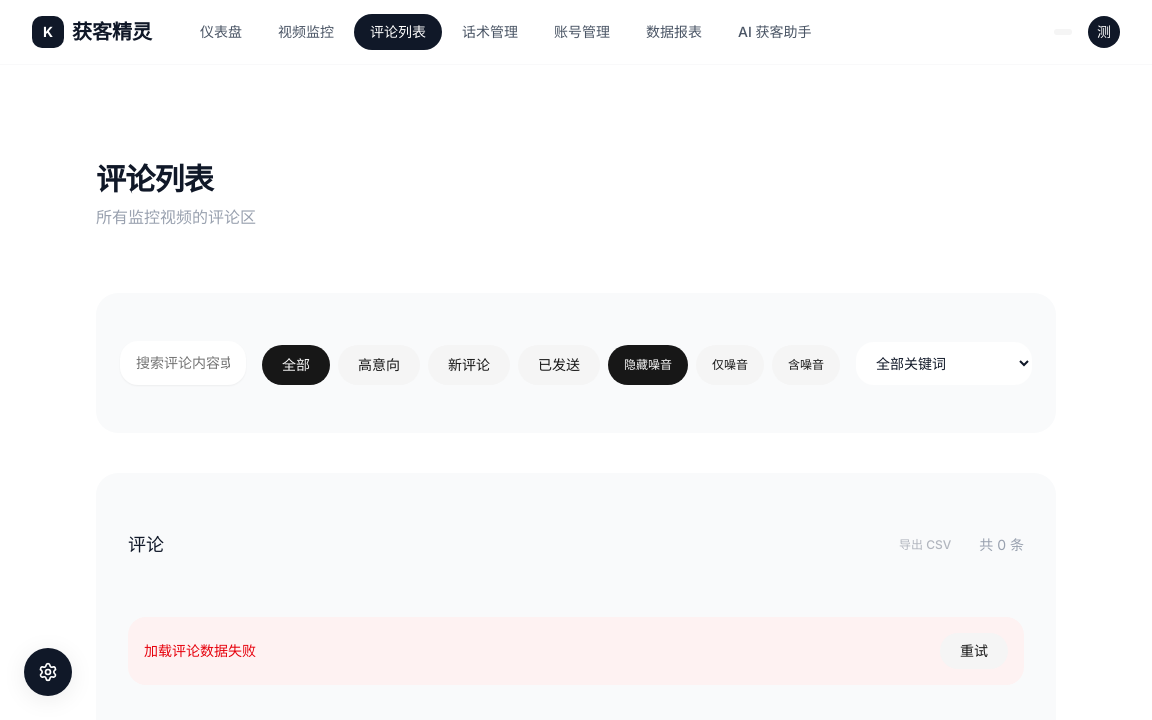
Test case: comments/page.tsx 数据加载失败态 › 点击「重试」重新拉取，成功后渲染空态
Click the button "重试".
click(974, 651)  # box [940, 633, 1008, 669]
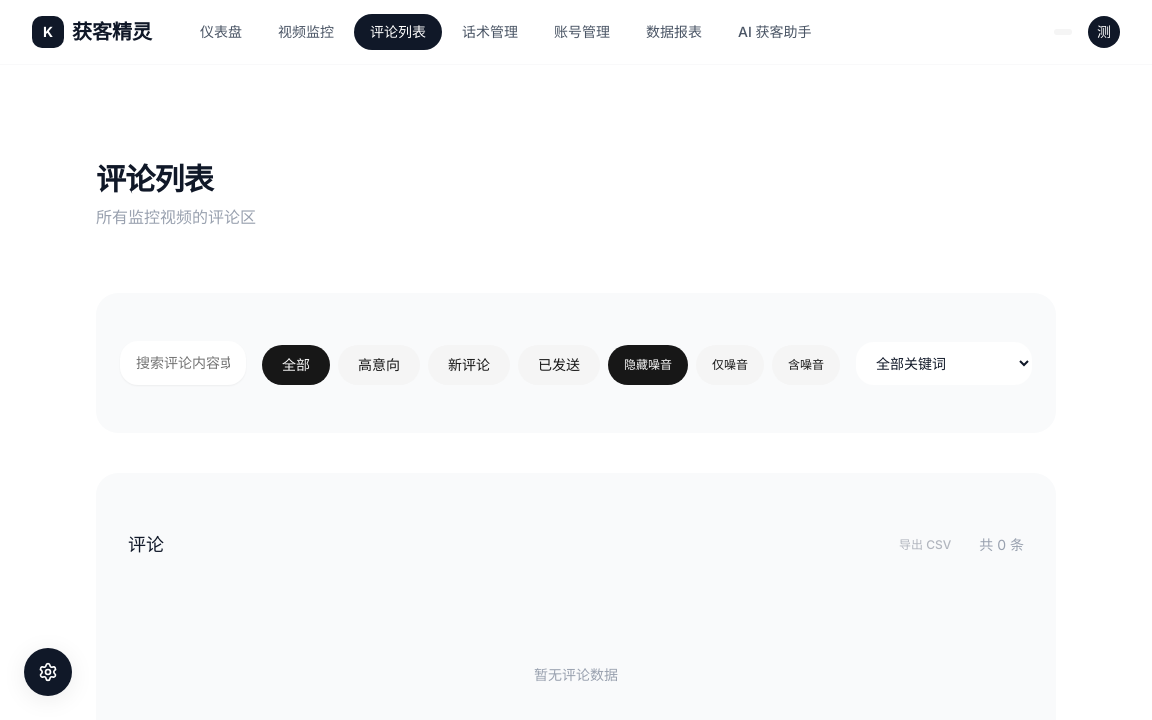
Now the text "加载评论数据失败" is gone
Now the text "暂无评论数据" is shown, box [534, 666, 618, 683]
